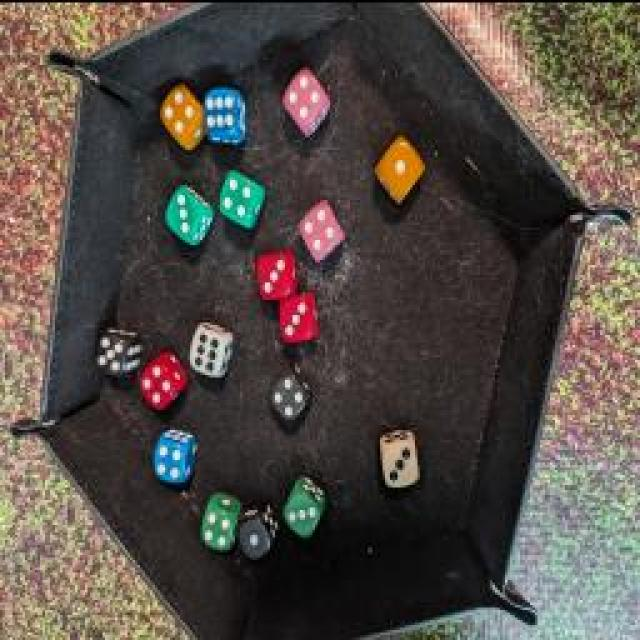dice_1: (371, 129, 429, 201), (235, 490, 280, 558)
dice_3: (376, 418, 426, 504), (164, 175, 214, 250), (274, 282, 324, 346), (251, 245, 299, 300), (280, 475, 325, 530)
dice_4: (212, 161, 272, 234), (283, 60, 335, 140), (147, 419, 195, 489), (295, 192, 345, 256), (268, 356, 312, 422), (136, 349, 184, 409), (161, 81, 204, 144), (191, 494, 239, 548)
dice_5: (91, 325, 141, 380)
dice_6: (200, 81, 255, 149), (188, 312, 238, 386)
